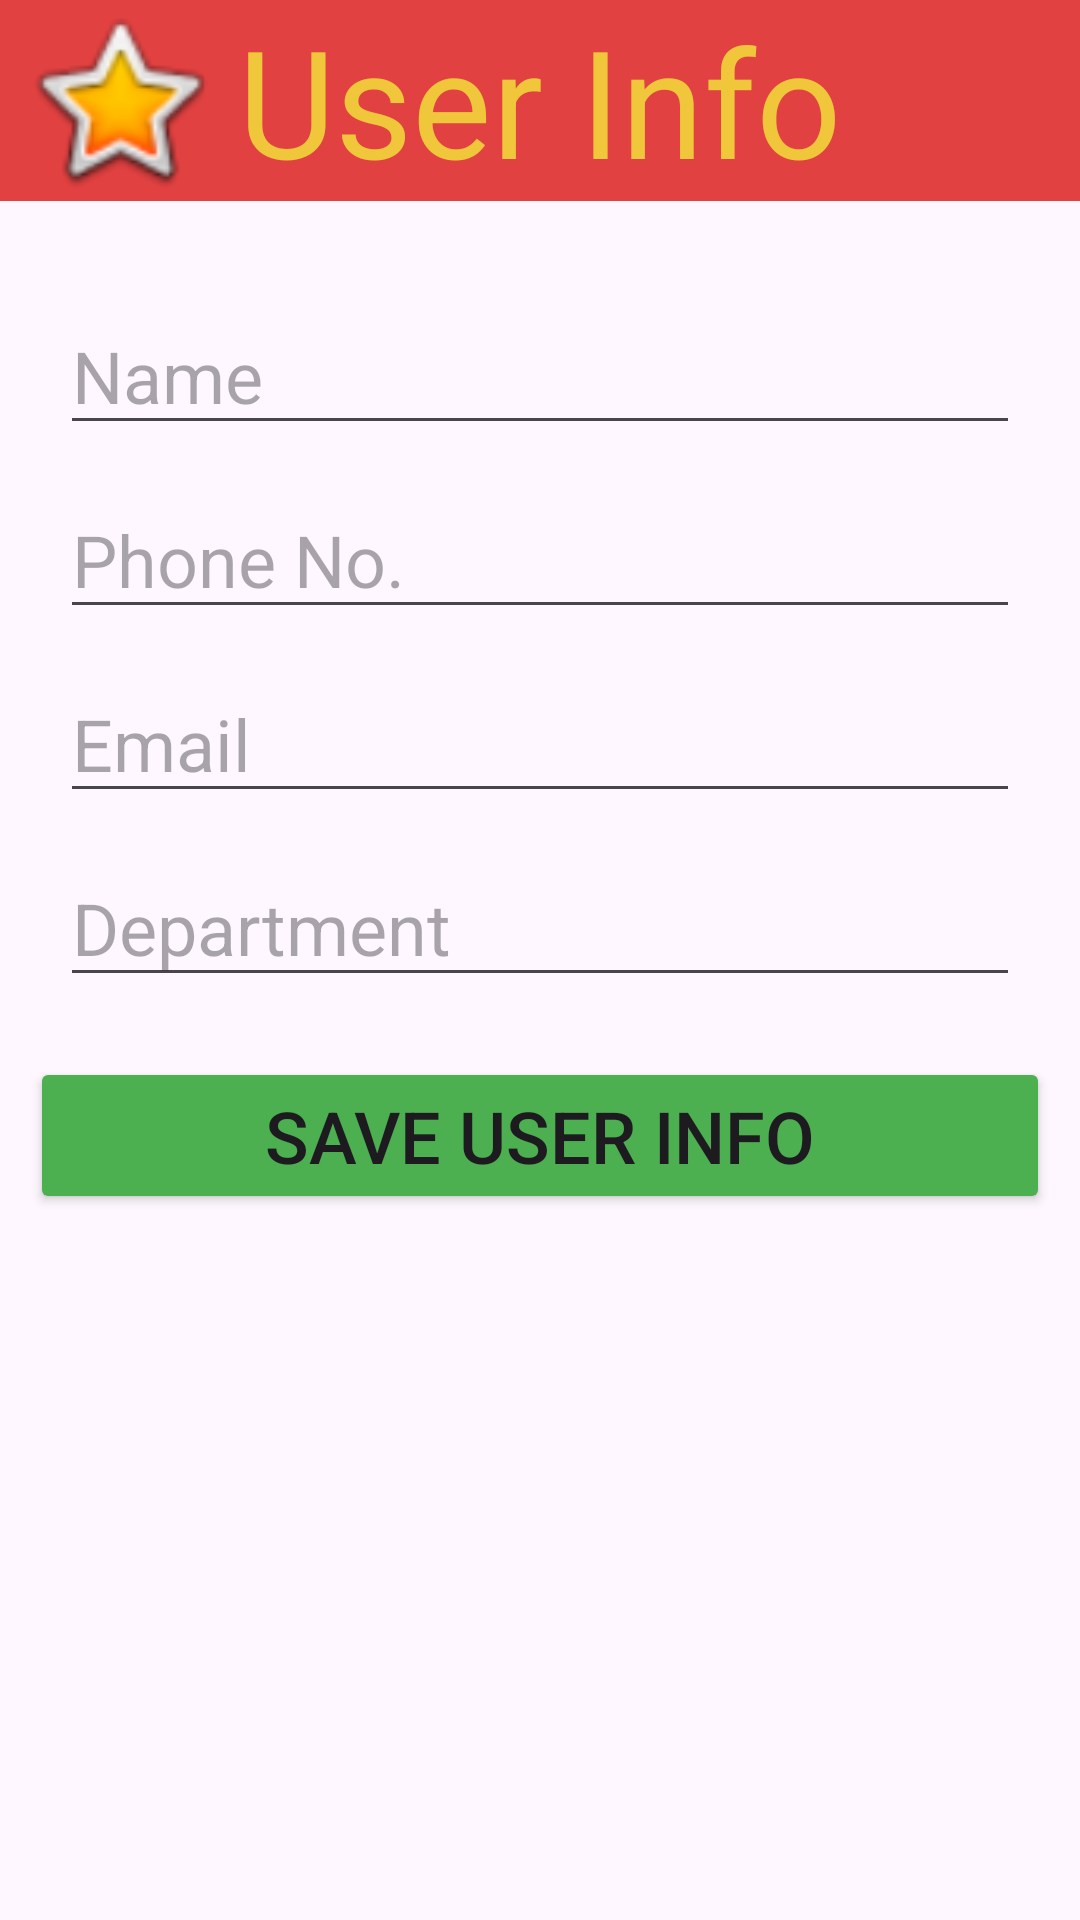

Where icons sit on this 1080 × 1920 app screen, as bbox=(x1, y1, x2, y2):
star on: bbox=(37, 20, 205, 184)
